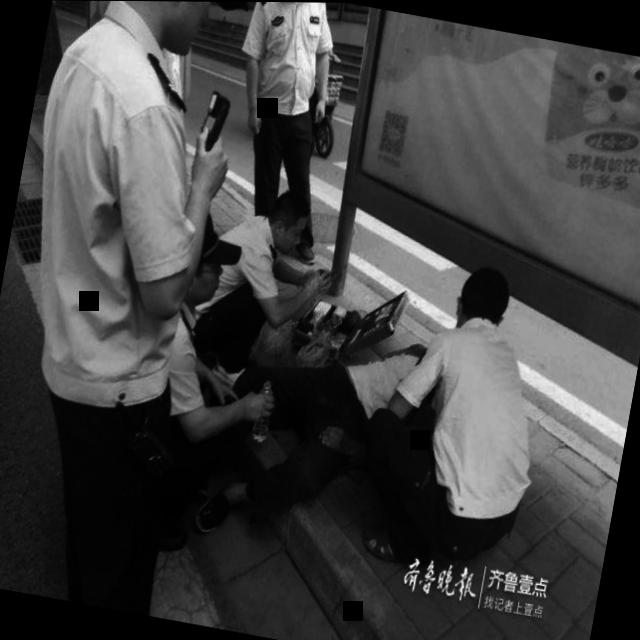Fall-Detected: (185, 288, 441, 557)
